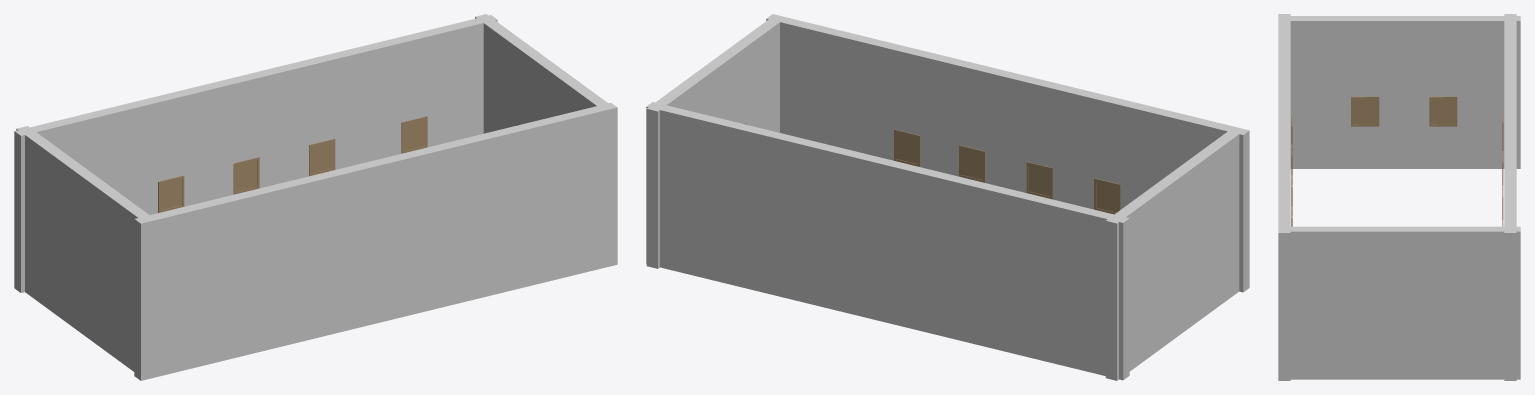
Rendered from puno85_objects.glb.
3 views of the same model, side by side, from view 1: azimuth 30°, elevation 25°; view 2: azimuth 150°, elevation 25°; view 3: azimuth 270°, elevation 25° (orthographic). The views are drawn at different scales.
Visible parts, largest first — view 1: Box, Box_1, Box_3, Box_2, FALKOWSKI, TABORSKA, MIER, kazimierski; view 2: Box_1, Box, Box_3, Box_2, CESARIA, BRZESKI, HALECKI, SULIMIRSKI11; view 3: Box_2, Box_3, Box, Box_1, DREWNOWSKI, SAS.
Part boxes in pixels (x1=…): Box: x1=134, y1=102, x2=617, y2=380; Box_1: x1=14, y1=15, x2=497, y2=292; Box_3: x1=16, y1=126, x2=152, y2=371; Box_2: x1=475, y1=14, x2=613, y2=133; FALKOWSKI: x1=158, y1=175, x2=184, y2=212; TABORSKA: x1=233, y1=157, x2=259, y2=194; MIER: x1=401, y1=116, x2=427, y2=153; kazimierski: x1=309, y1=138, x2=335, y2=176; Box_1: x1=646, y1=102, x2=1129, y2=380; Box: x1=766, y1=14, x2=1249, y2=292; Box_3: x1=1105, y1=127, x2=1244, y2=380; Box_2: x1=646, y1=16, x2=783, y2=268; CESARIA: x1=1026, y1=161, x2=1052, y2=199; BRZESKI: x1=959, y1=145, x2=985, y2=182; HALECKI: x1=894, y1=129, x2=920, y2=166; SULIMIRSKI11: x1=1094, y1=178, x2=1120, y2=214; Box_2: x1=1280, y1=226, x2=1520, y2=379; Box_3: x1=1280, y1=16, x2=1520, y2=168; Box: x1=1278, y1=14, x2=1290, y2=380; Box_1: x1=1504, y1=14, x2=1516, y2=380; DREWNOWSKI: x1=1429, y1=96, x2=1457, y2=126; SAS: x1=1351, y1=96, x2=1379, y2=126.
Bounding box in the file's own units: 42.24 × 13.32 × 19.73.
